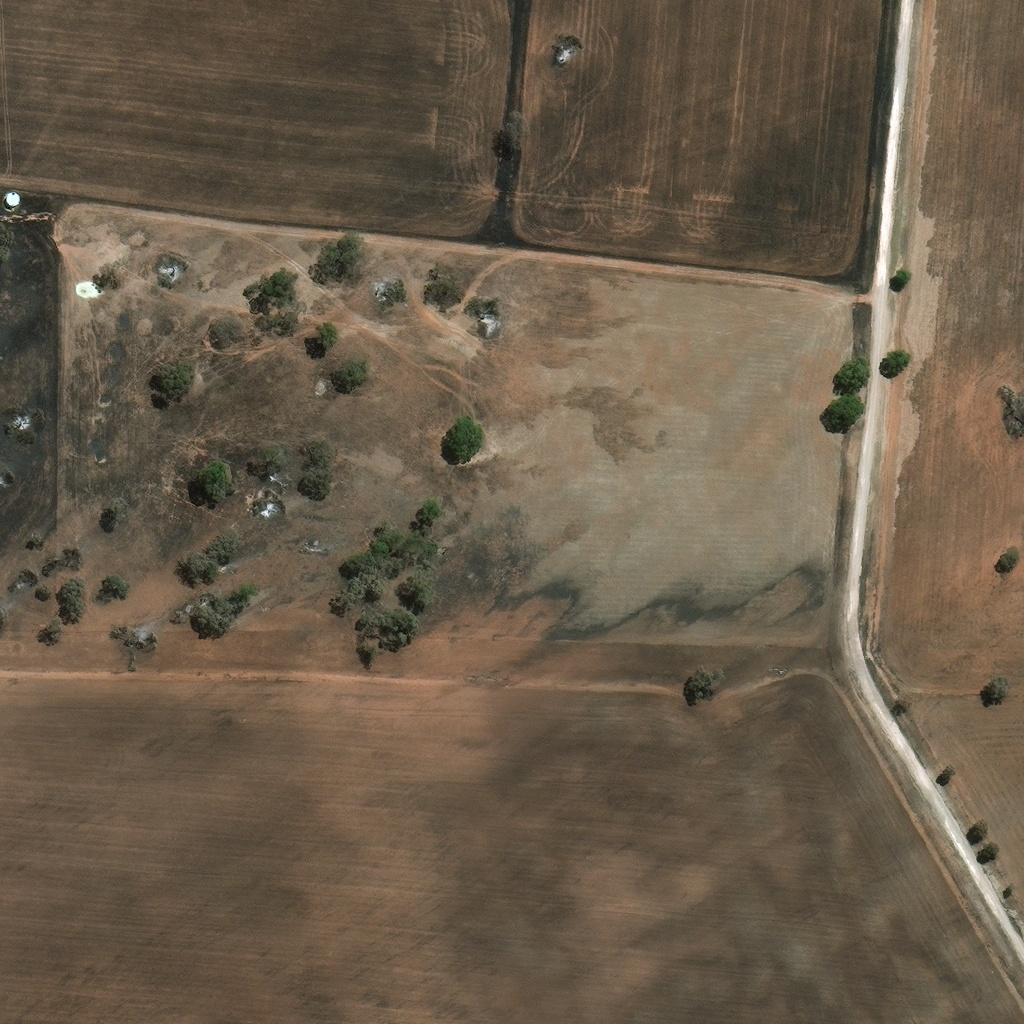0 no-damage: (4, 192, 20, 208)
